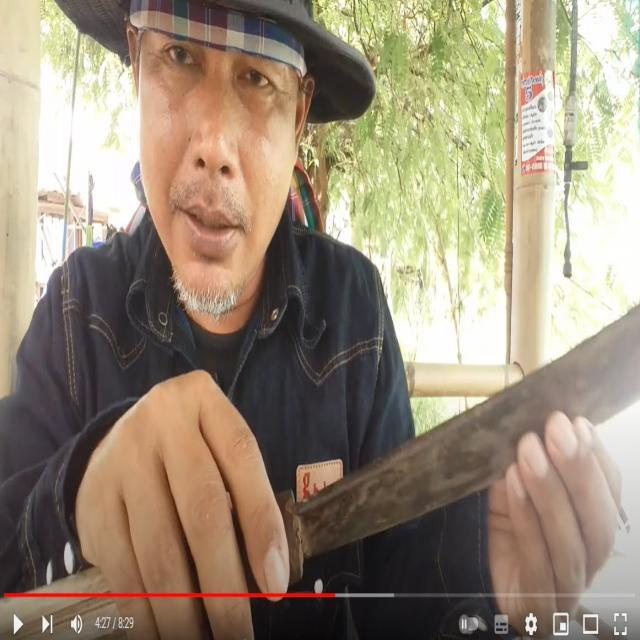eto: (0, 306, 640, 632)
